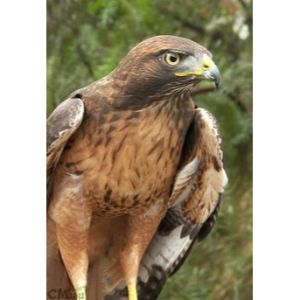hawk: (46, 32, 231, 299)
